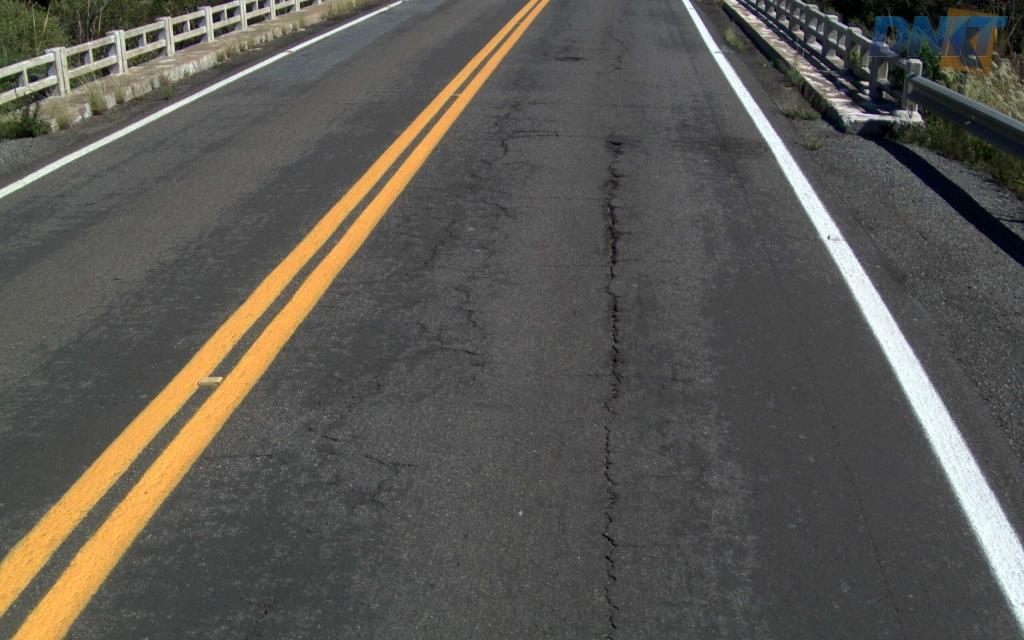crack: (605, 285, 625, 401), (602, 197, 625, 280)
